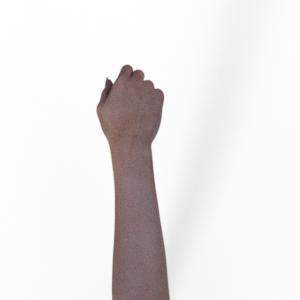rock: (97, 65, 169, 300)
